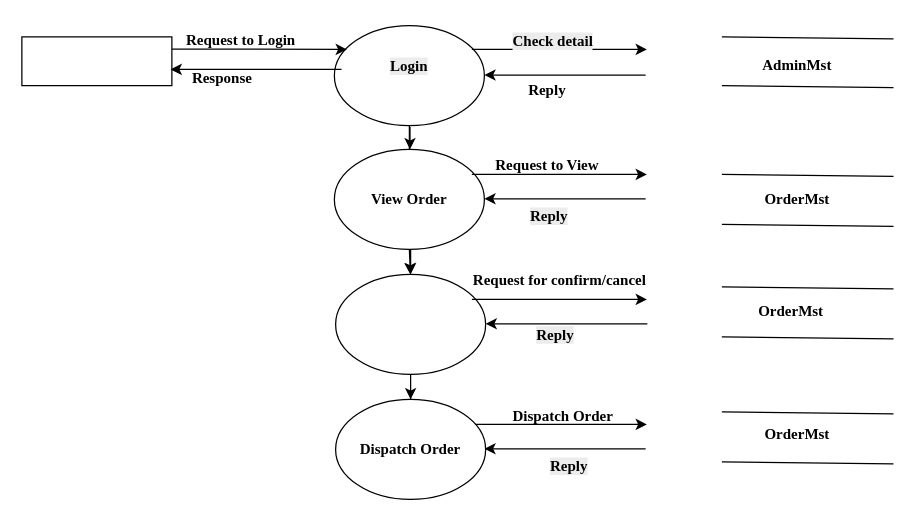
Some shapes in this 918 by 521 pixel diagram are drawn without their labels. Each missing label, with the centre of its shape:
"ADMIN" belongs at point (96, 61).
"Cnfirm/Cancel Order" belongs at point (410, 323).
